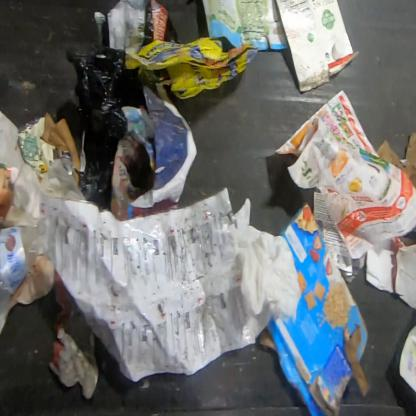cardboard: (257, 201, 373, 415), (125, 36, 259, 105), (275, 0, 361, 94), (201, 0, 289, 51), (93, 0, 171, 53), (40, 112, 80, 186), (376, 132, 415, 190), (0, 162, 20, 226)
rigid_plastic: (0, 218, 48, 316)
soft_plastic: (64, 41, 128, 211), (17, 116, 71, 182)
